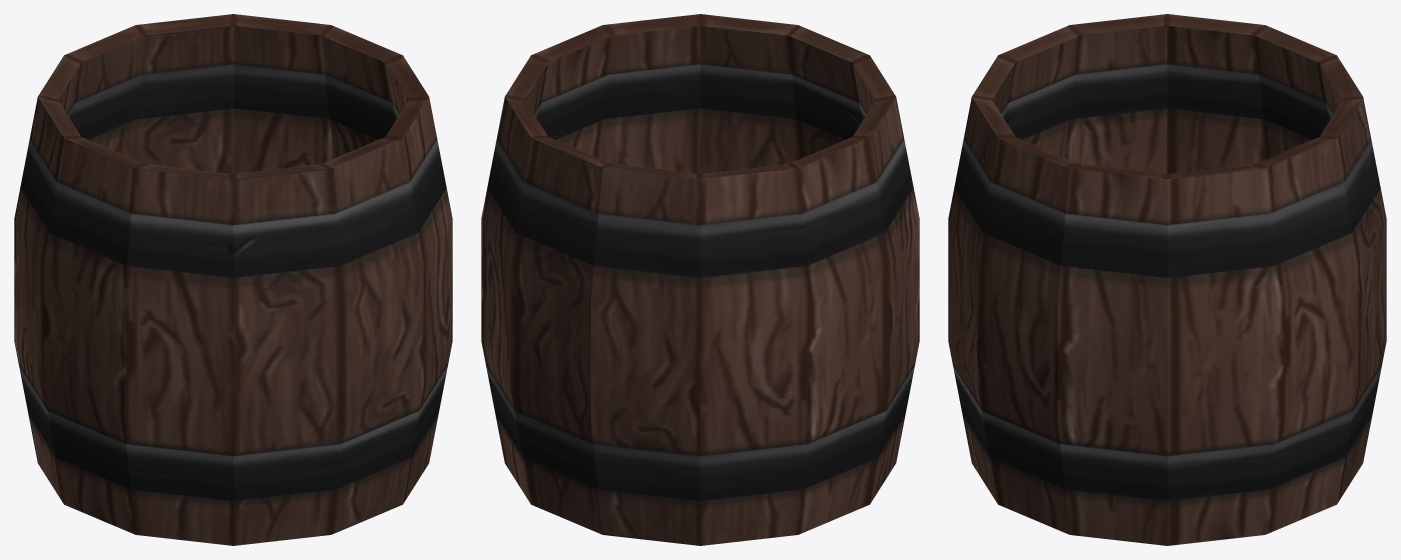
File: open barrel.fbx
The picture shows the model from 3 angles, left to right: view 1: azimuth 30°, elevation 25°; view 2: azimuth 150°, elevation 25°; view 3: azimuth 270°, elevation 25°; orthographic projection.
Visible parts, largest first — view 1: pasted__pCylinder1; view 2: pasted__pCylinder1; view 3: pasted__pCylinder1.
Part boxes in pixels (bbox=[...]): pasted__pCylinder1: bbox=[14, 14, 452, 545]; pasted__pCylinder1: bbox=[481, 14, 919, 545]; pasted__pCylinder1: bbox=[948, 14, 1386, 545].
Bounding box in the file's own units: 4.95 × 4.57 × 4.95.
